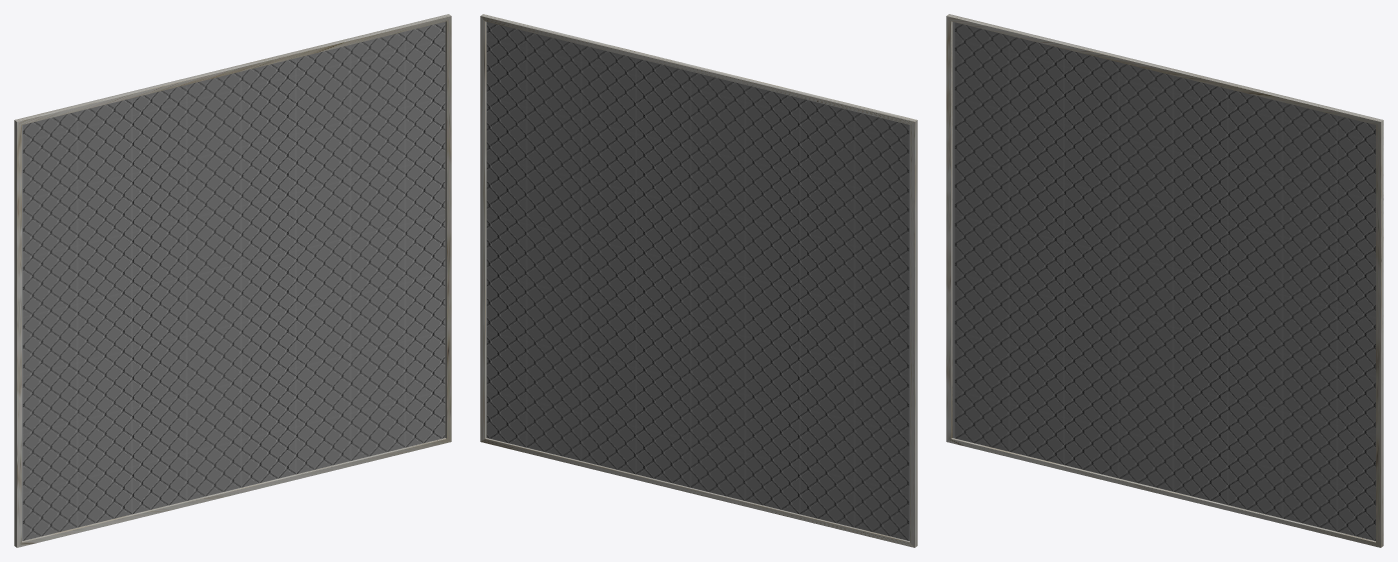
Rendered from wire.FBX.
3 renders of one model, left to right at view 1: azimuth 30°, elevation 25°; view 2: azimuth 150°, elevation 25°; view 3: azimuth 330°, elevation 25°, orthographic.
Visible parts, largest first — view 1: Rectangle01; view 2: Rectangle01; view 3: Rectangle01.
Part boxes in pixels (left/top/right/bottom): Rectangle01: left=14, top=14, right=451, bottom=547; Rectangle01: left=480, top=14, right=917, bottom=547; Rectangle01: left=946, top=14, right=1383, bottom=547.
Size of the model in its own units: 545 by 6 by 510.
